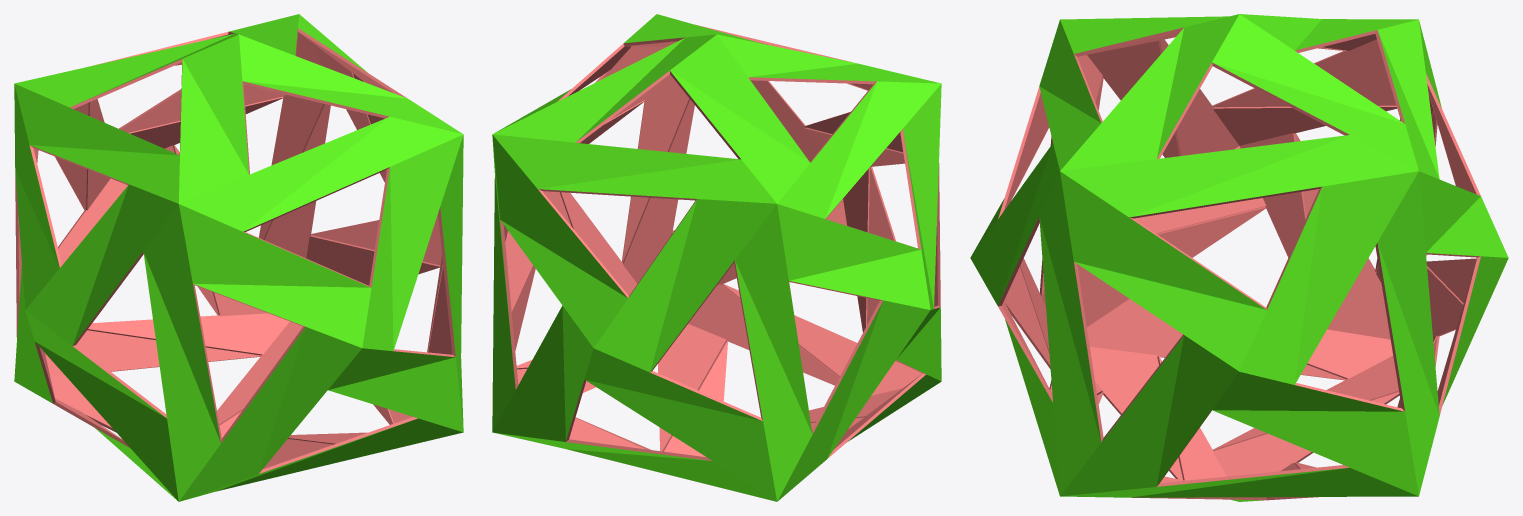
Rendered from TetrakisHexahedron.glb.
The picture shows the model from 3 angles, left to right: view 1: azimuth 30°, elevation 25°; view 2: azimuth 150°, elevation 25°; view 3: azimuth 270°, elevation 25°; orthographic projection. The views are drawn at different scales.
Parts seen in each view (by area): view 1: root; view 2: root; view 3: root.
Part boxes in pixels (box(x1,y1,x2,y2)): root: box(14, 14, 463, 501); root: box(492, 14, 941, 501); root: box(970, 14, 1508, 501).
Bounding box in the file's own units: 7.94 × 7.94 × 7.94.
